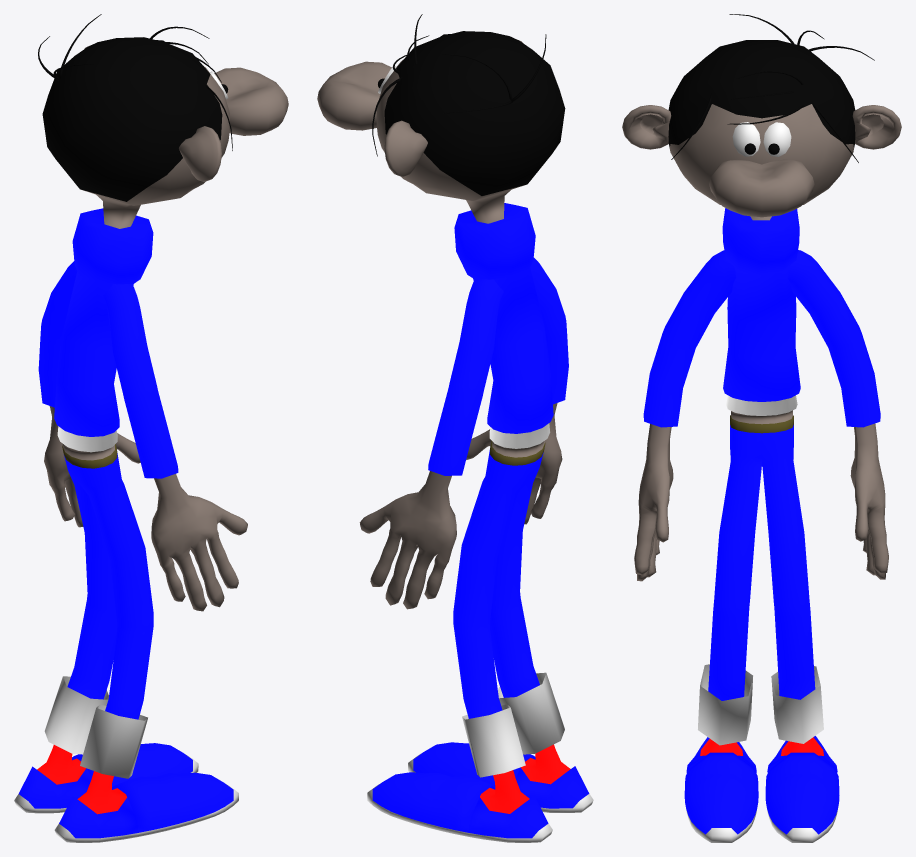
Rendered from spectator_blue_medium.dae.
3 renders of one model, left to right at view 1: azimuth 30°, elevation 25°; view 2: azimuth 150°, elevation 25°; view 3: azimuth 270°, elevation 25°, orthographic.
Parts seen in each view (by area): view 1: Spectator; view 2: Spectator; view 3: Spectator.
Part boxes in pixels (x1=…): Spectator: x1=14, y1=14, x2=288, y2=842; Spectator: x1=317, y1=14, x2=593, y2=842; Spectator: x1=622, y1=14, x2=901, y2=842.
Size of the model in its own units: 0.5277 by 0.5296 by 1.6.
